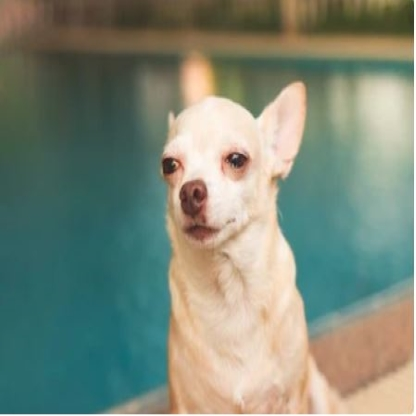chihuahua: (155, 77, 349, 413)
